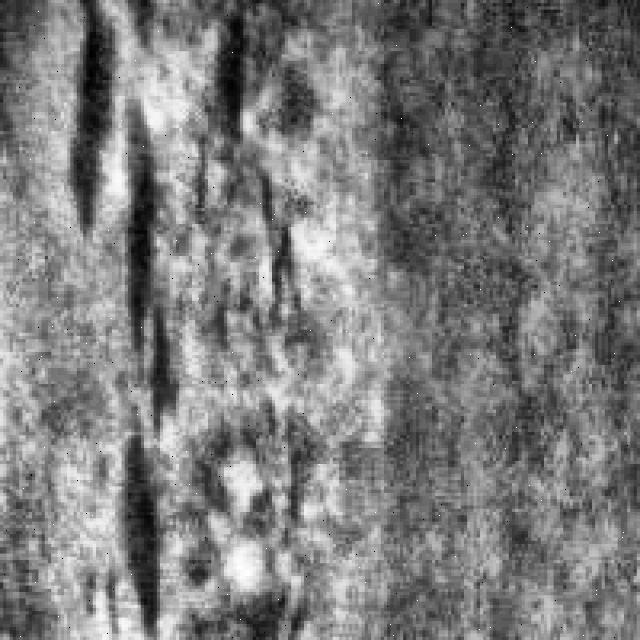Patches: (61, 0, 182, 573), (96, 422, 179, 634), (198, 3, 276, 166)
